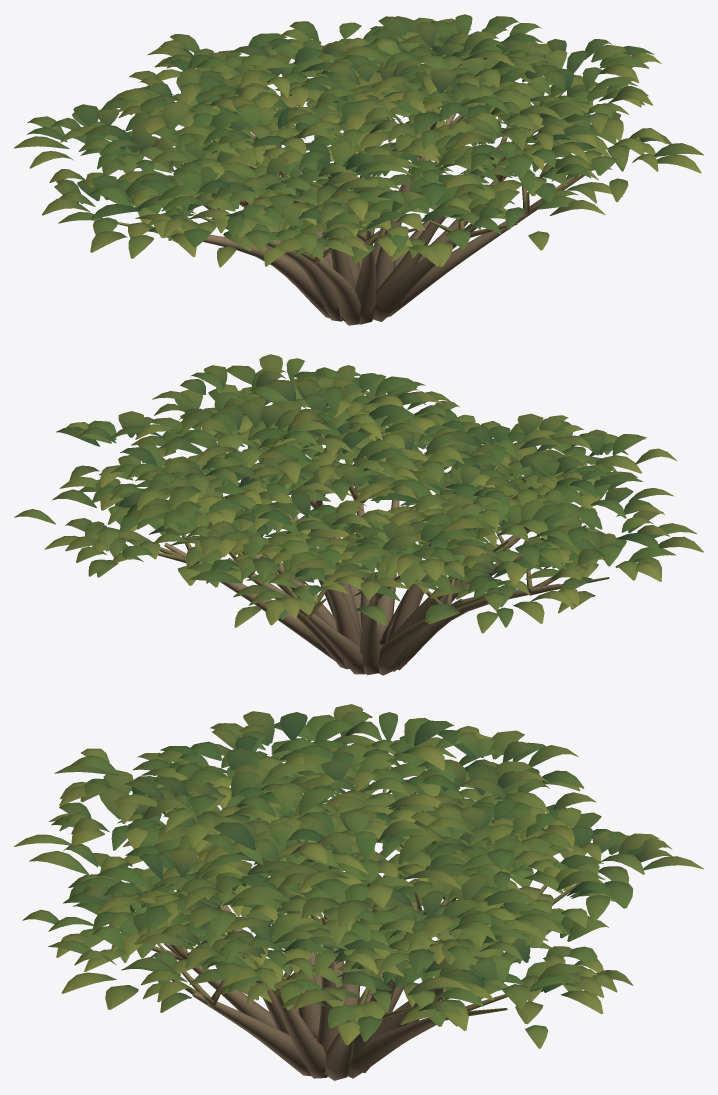
The picture shows the model from 3 angles, top to bottom: view 1: azimuth 30°, elevation 25°; view 2: azimuth 150°, elevation 25°; view 3: azimuth 270°, elevation 25°; orthographic projection. The views are drawn at different scales.
Parts seen in each view (by area): view 1: Leaves, Stems; view 2: Leaves, Stems; view 3: Leaves, Stems.
Part boxes in pixels (box(x1,y1,x2,y2)): Leaves: box(14, 14, 703, 267); Stems: box(118, 64, 602, 325); Leaves: box(14, 354, 703, 633); Stems: box(158, 434, 609, 675); Leaves: box(14, 704, 703, 1048); Stems: box(131, 766, 583, 1080).
Bounding box in the file's own units: 3.9 × 1.41 × 3.33.
